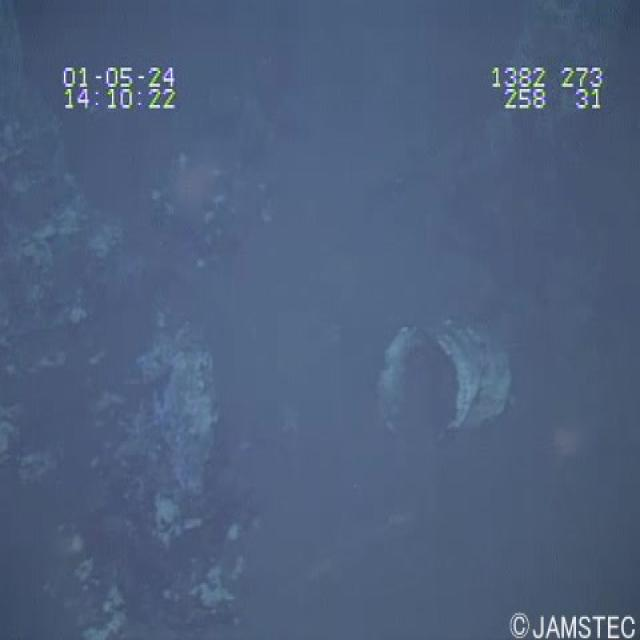plastic: (367, 302, 524, 455)
